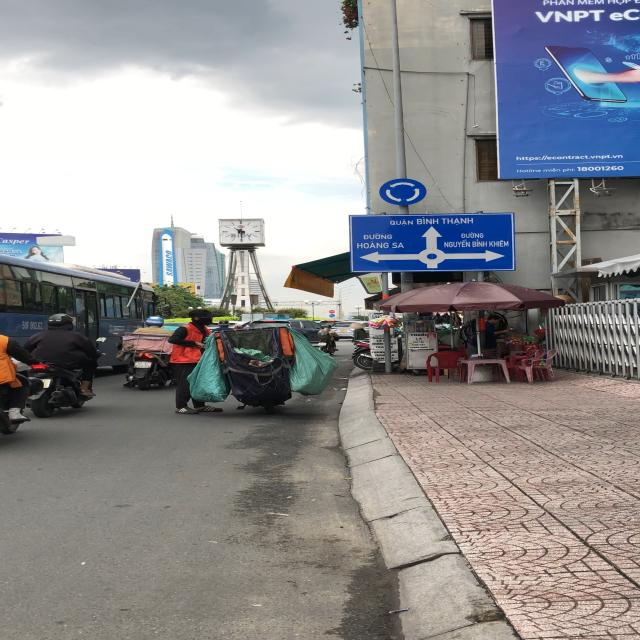Bien bao noi giao nhau chay theo vong xuyen: (376, 177, 432, 208)
